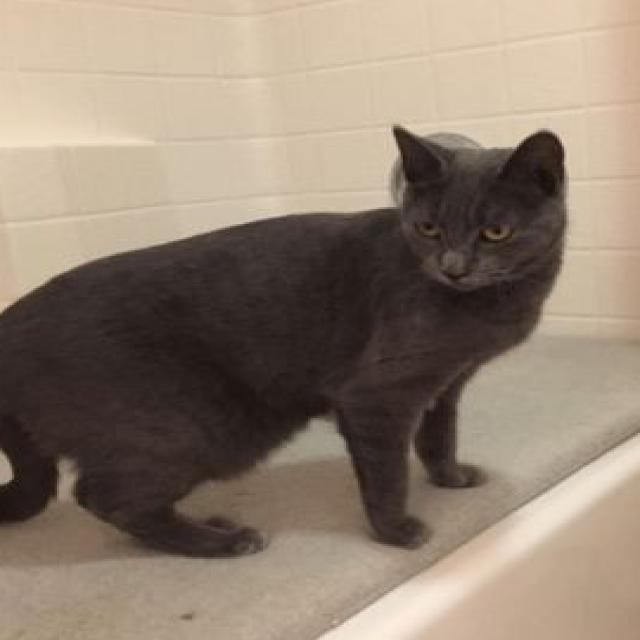Russian Blue: (0, 113, 569, 565)
